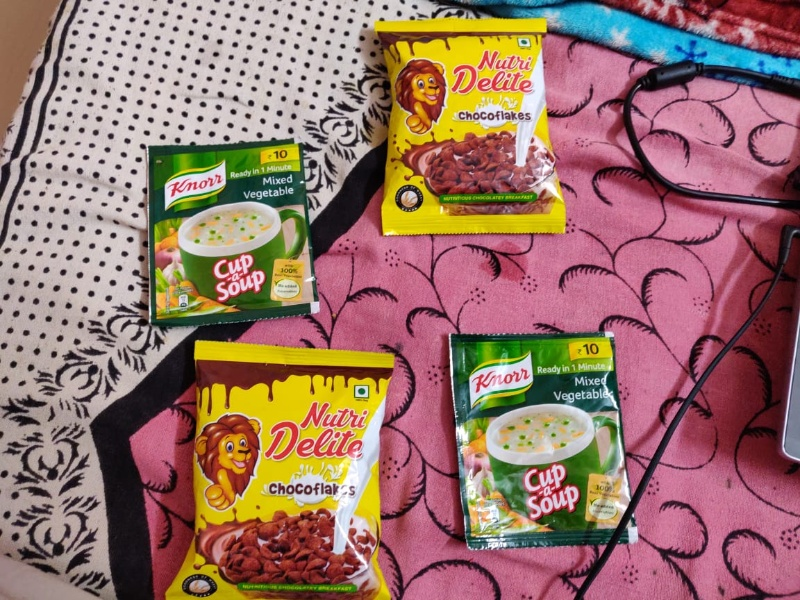Knorr_Cup_Soup: (451, 331, 639, 542), (142, 145, 323, 319)
nutriDelite: (192, 344, 383, 600), (373, 22, 573, 241)
